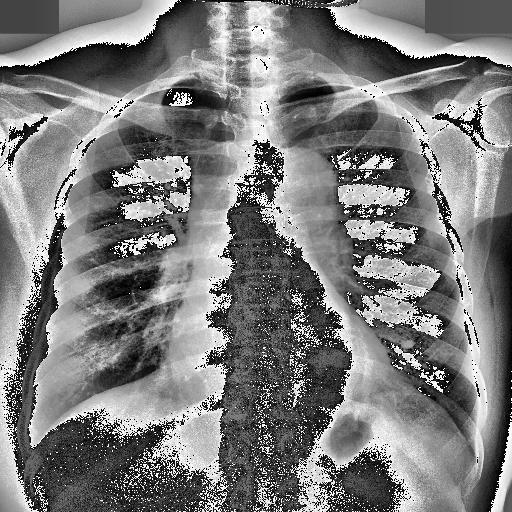0- Aortic enlargement: (242, 143, 344, 246), (253, 147, 347, 231), (263, 147, 340, 236)
3- Cardiomegaly: (154, 338, 400, 402)
7- Lung Opacity: (190, 82, 236, 256)
8- Nodule-Mass: (400, 336, 418, 350)
